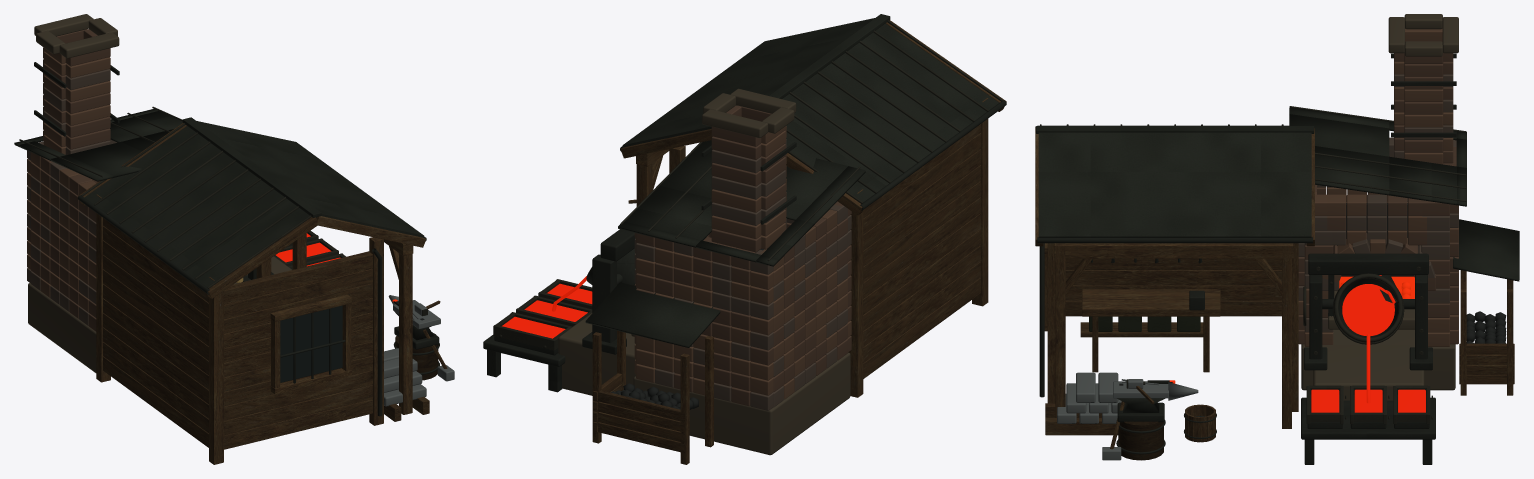
Rendered from steelworks.glb.
3 views of the same model, side by side, from view 1: azimuth 30°, elevation 25°; view 2: azimuth 150°, elevation 25°; view 3: azimuth 270°, elevation 25° (orthographic). The views are drawn at different scales.
Visible parts, largest first — view 1: Steelworks firebrick; view 2: Steelworks firebrick; view 3: Steelworks firebrick.
Part boxes in pixels (x1,y1,x2,y2): Steelworks firebrick: [14, 14, 454, 464]; Steelworks firebrick: [483, 14, 1006, 464]; Steelworks firebrick: [1035, 14, 1519, 464].
Bounding box in the file's own units: 1.46 × 1.43 × 2.
Materials: 17 (7 with a texture image).
